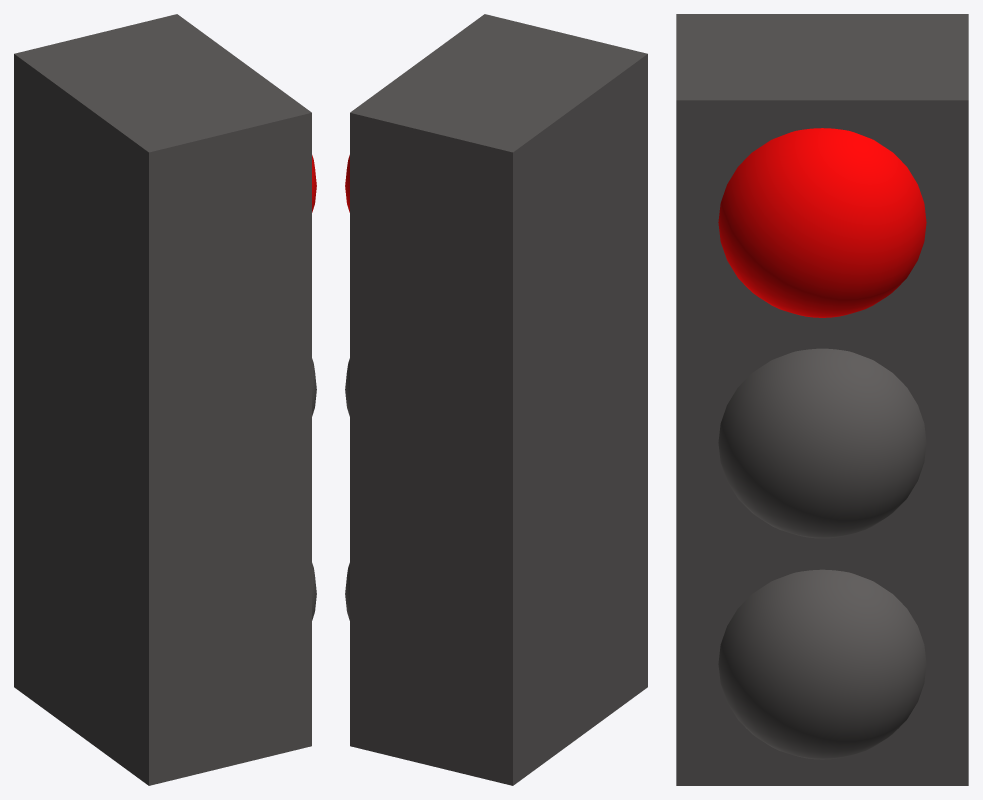
Rendered from kirmizi.dae.
The picture shows the model from 3 angles, left to right: view 1: azimuth 30°, elevation 25°; view 2: azimuth 150°, elevation 25°; view 3: azimuth 270°, elevation 25°; orthographic projection. The views are drawn at different scales.
Visible parts, largest first — view 1: Cube; view 2: Cube; view 3: Cube, Sphere.001, Sphere, Sphere.002.
Part boxes in pixels (box(x1,y1,x2,y2)): Cube: box(14, 14, 311, 785); Cube: box(350, 14, 647, 785); Cube: box(676, 14, 968, 785); Sphere.001: box(718, 348, 926, 538); Sphere: box(718, 569, 926, 759); Sphere.002: box(718, 128, 926, 317).
Bounding box in the file's own units: 2.71 × 2.86 × 7.42.
